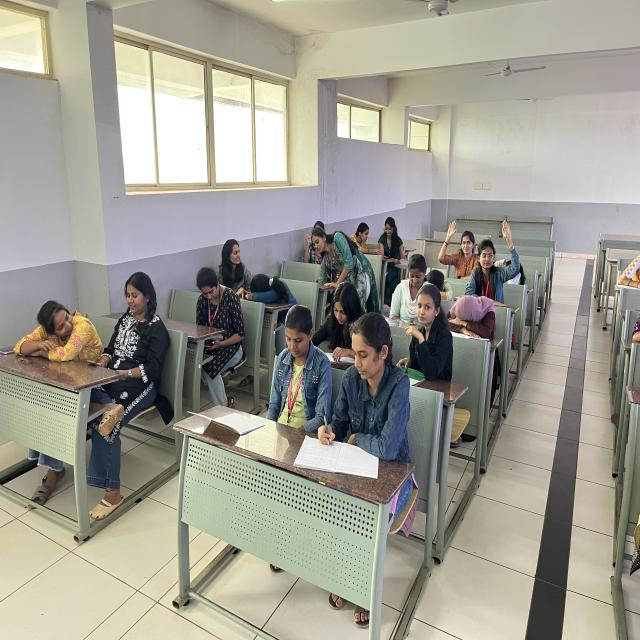Hand Rising: (468, 213, 522, 304), (434, 198, 481, 285)
Reading: (317, 269, 365, 368)
Sleeping: (244, 251, 298, 326), (450, 283, 496, 350), (419, 258, 459, 303)
Using Phone: (88, 242, 165, 402), (248, 283, 322, 435), (174, 264, 250, 398)
Writing: (315, 311, 407, 485)
